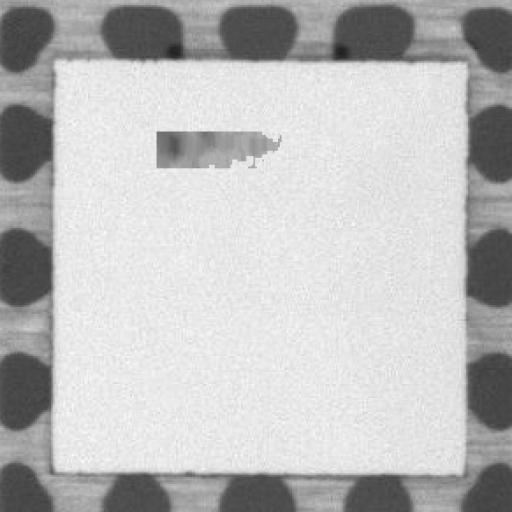DIE_INK: (155, 130, 276, 168)
